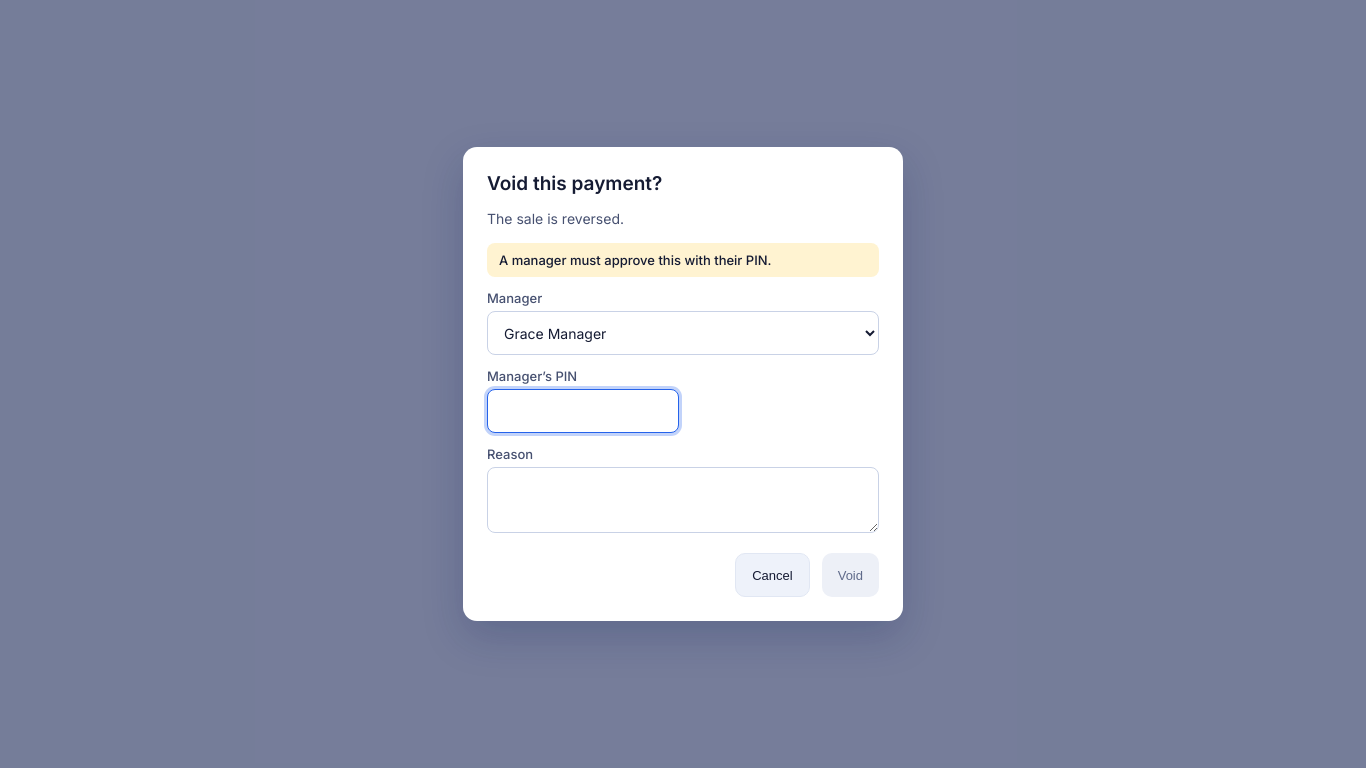
<ManagerApprovalDialog> › shows the server message for a locked PIN
In the password field labelled "Manager’s PIN": (583, 411) [487,389,679,433], type "482915"
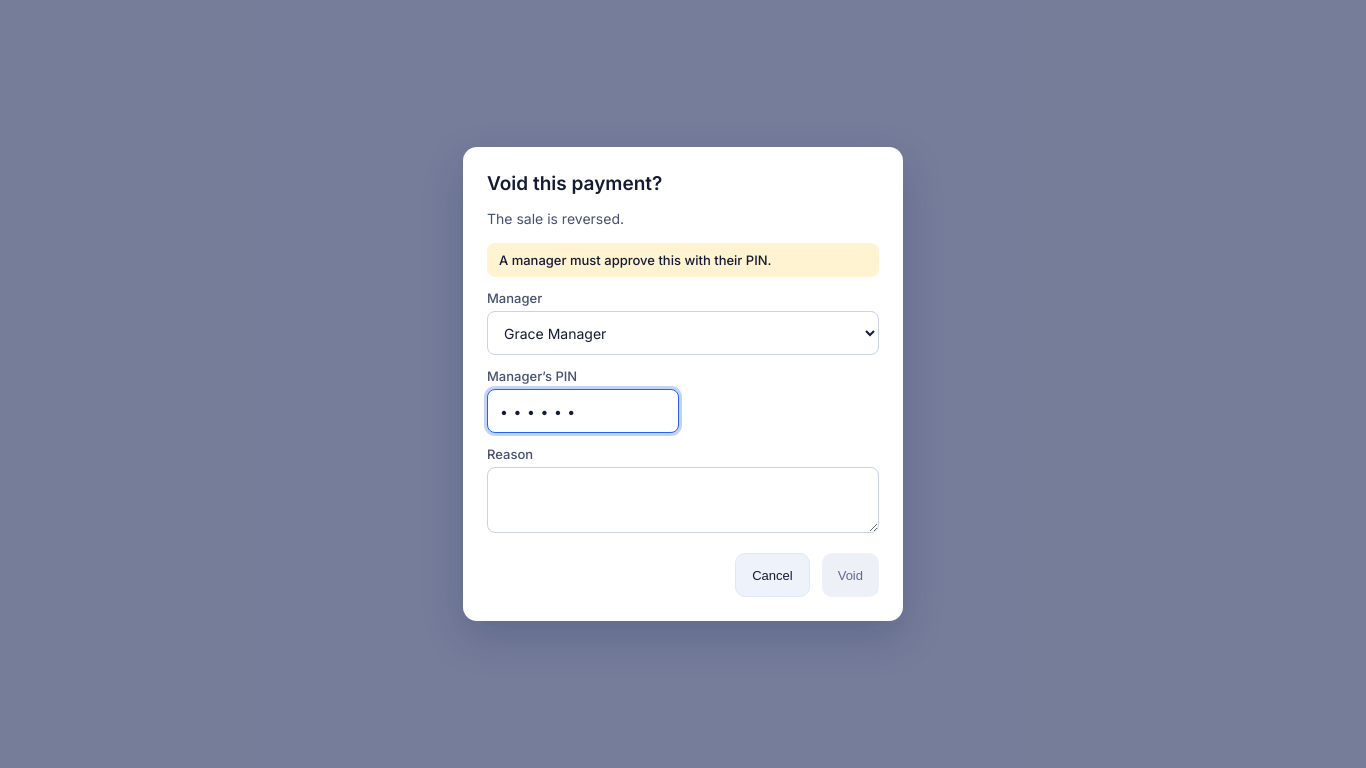
In the text box labelled "Reason": (683, 500) [487,467,879,533], type "x"
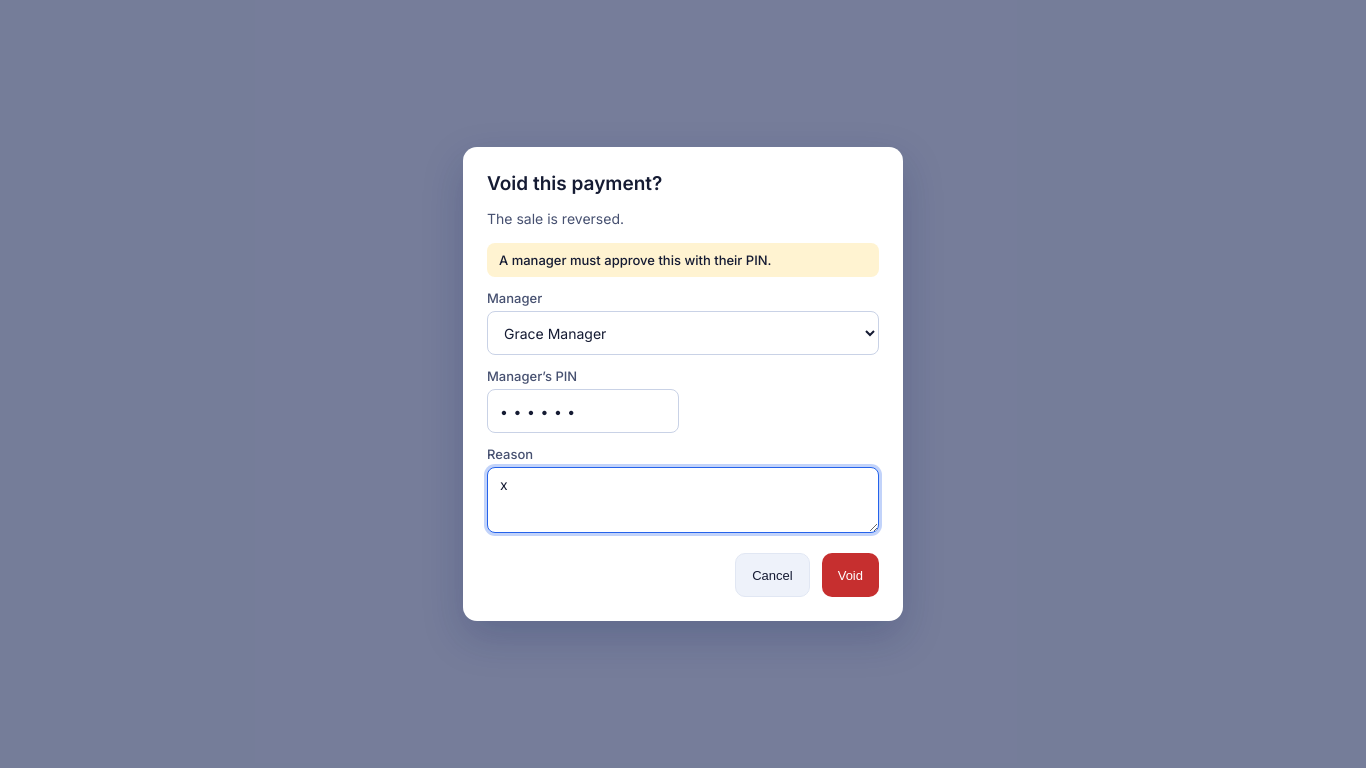
Click the button "Void": (850, 575) [822,553,879,597]
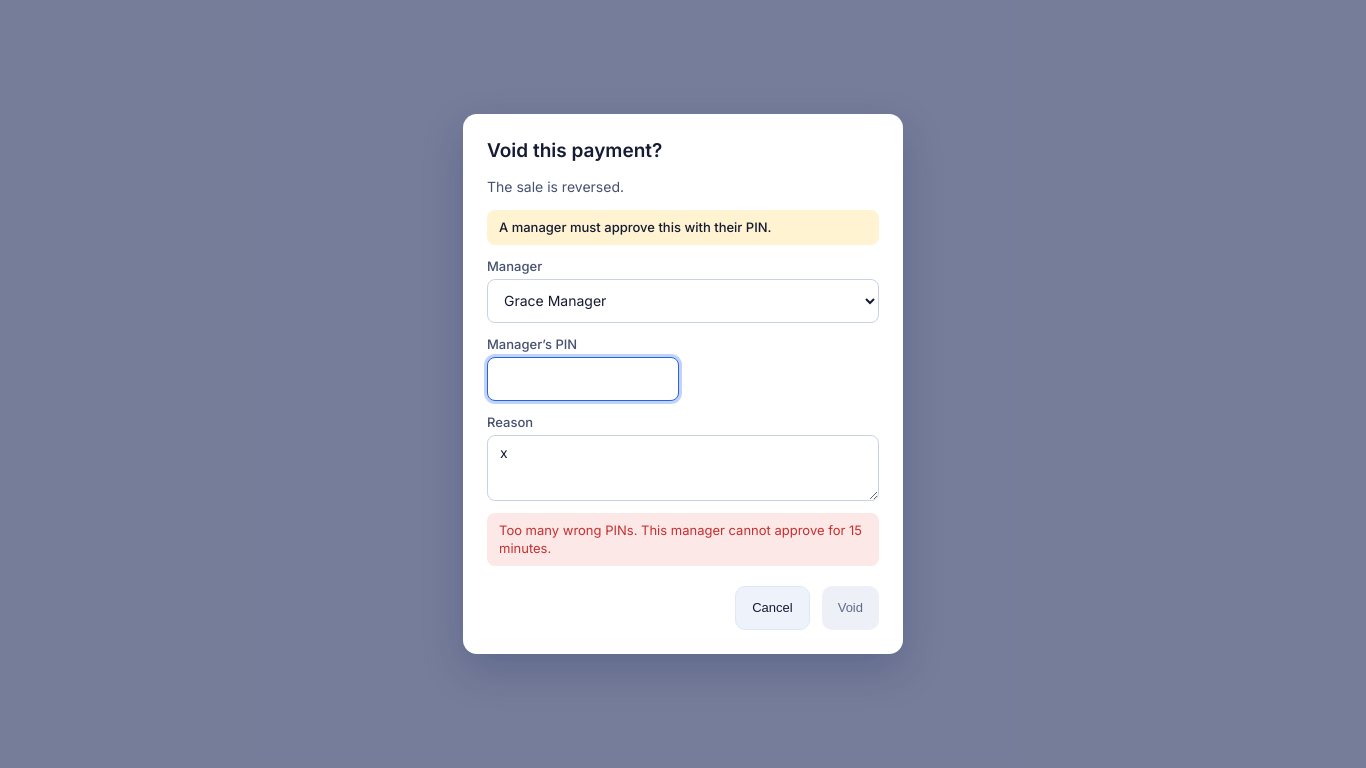
Expected: the message shows "Too many wrong PINs", [499,522,862,556]
